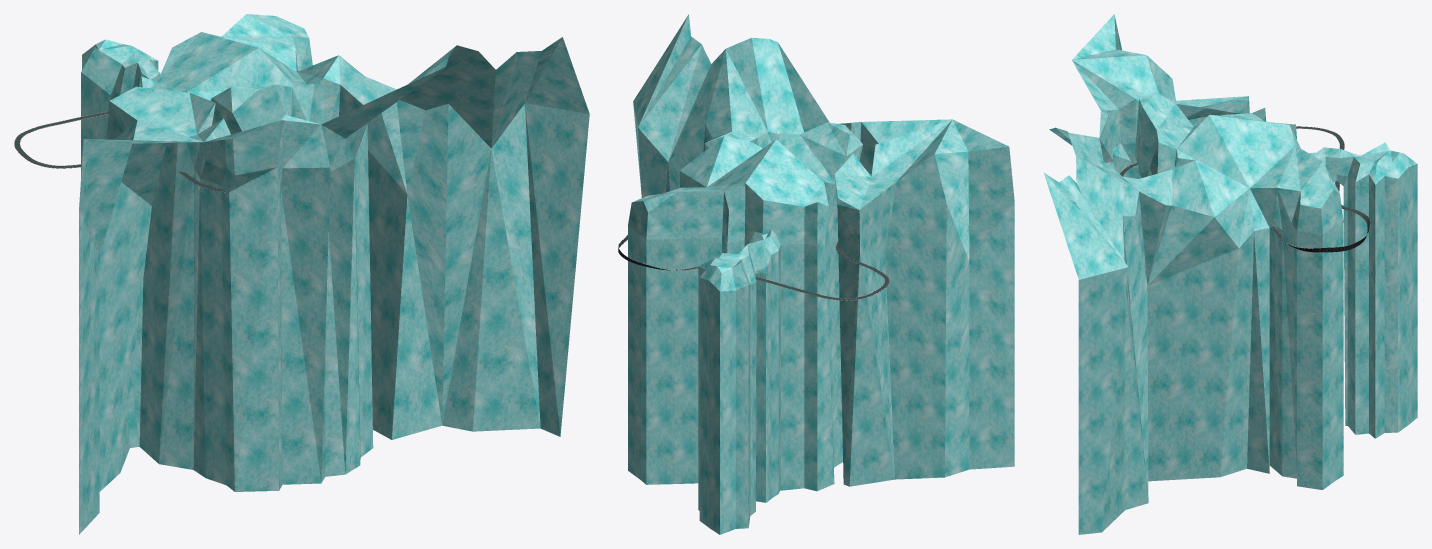
The model's file is Ice_3.fbx.
3 renders of one model, left to right at view 1: azimuth 30°, elevation 25°; view 2: azimuth 150°, elevation 25°; view 3: azimuth 270°, elevation 25°, orthographic. The views are drawn at different scales.
Parts seen in each view (by area): view 1: Ice_, Ice_Gate, Road; view 2: Ice_, Ice_Gate, Road; view 3: Ice_, Ice_Gate, Road.
Boxes of the visible parts, x1,y1,x2,y2 form: Ice_: [79, 14, 589, 534]; Ice_Gate: [81, 39, 160, 176]; Road: [14, 111, 225, 192]; Ice_: [628, 14, 1014, 491]; Ice_Gate: [698, 229, 780, 534]; Road: [618, 235, 889, 300]; Ice_: [1043, 14, 1343, 534]; Ice_Gate: [1309, 142, 1417, 438]; Road: [1120, 126, 1370, 252].
Size of the model in its own units: 539393 by 445047 by 421398.
